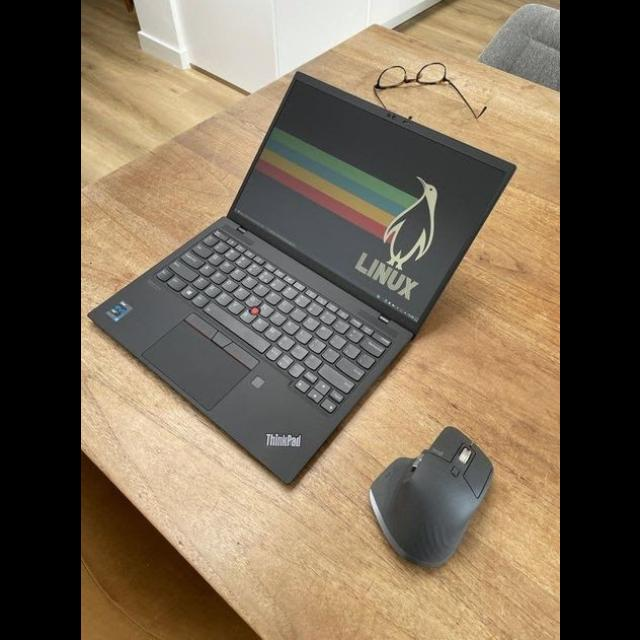laptop: (88, 72, 515, 482)
